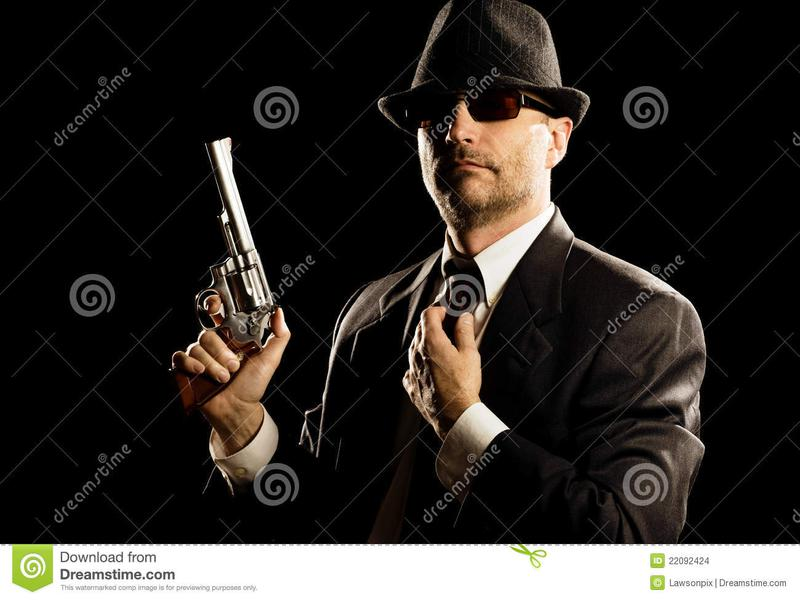Revolver: (156, 133, 290, 394)
